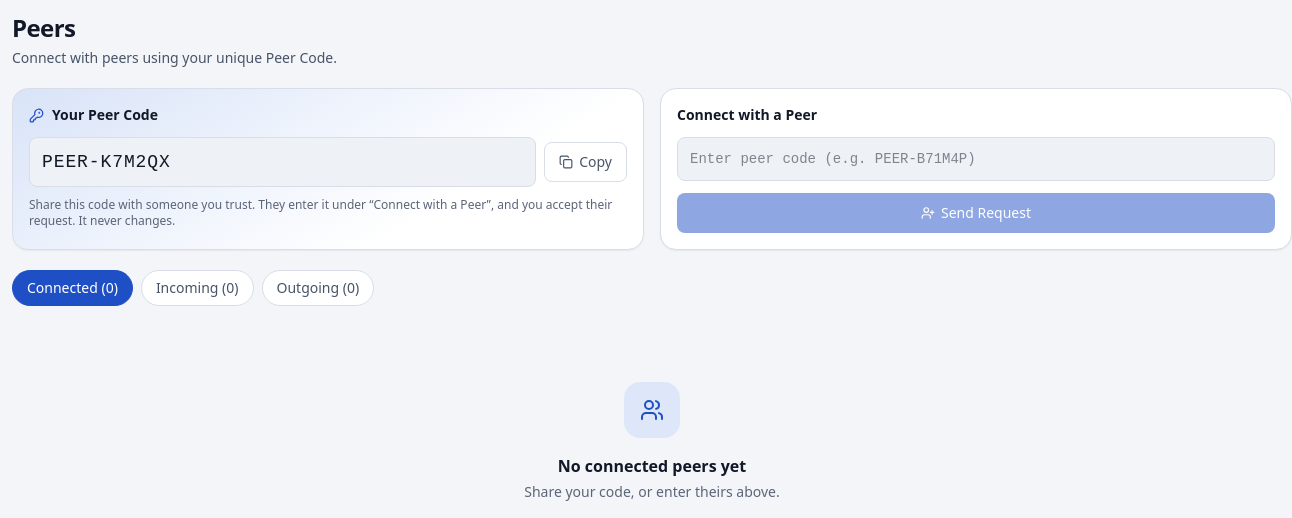
Test case: PeersPanel › shows my peer code from the database, tab counts and empty states
Expected: the text "PEER-K7M2QX" is shown, [29,137,536,187]
Expected: the text "No connected peers yet" is shown, [558,455,746,477]
Click the tab "Incoming (0)".
click(197, 288)  # box [141,270,254,306]
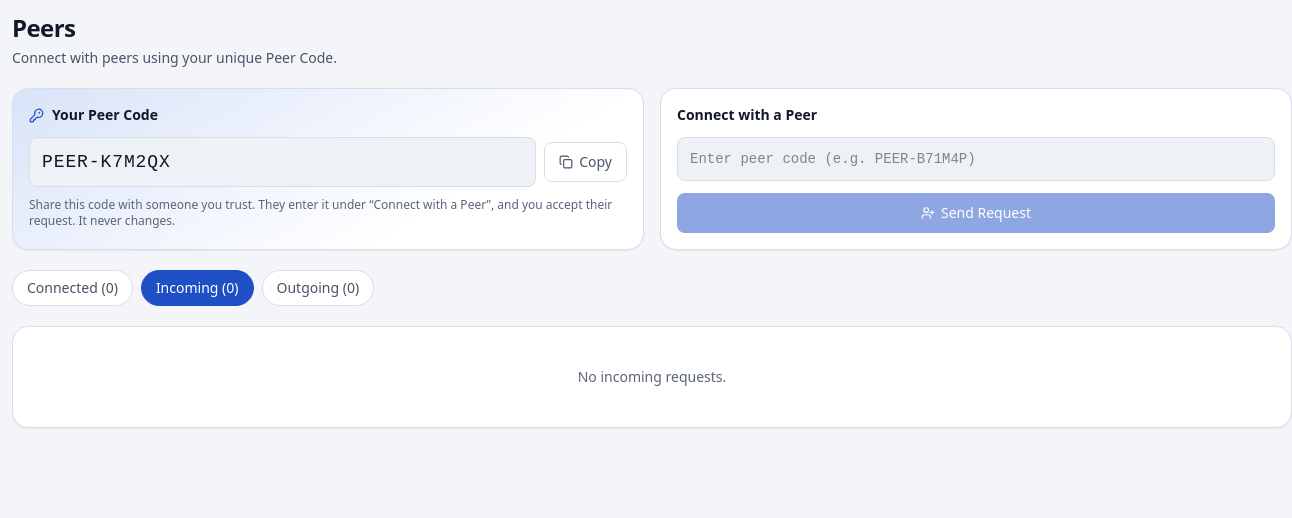
Expected: the text "No incoming requests." is shown, [578,367,726,386]
Click the tab "Outgoing (0)".
click(318, 288)  # box [262,270,374,306]
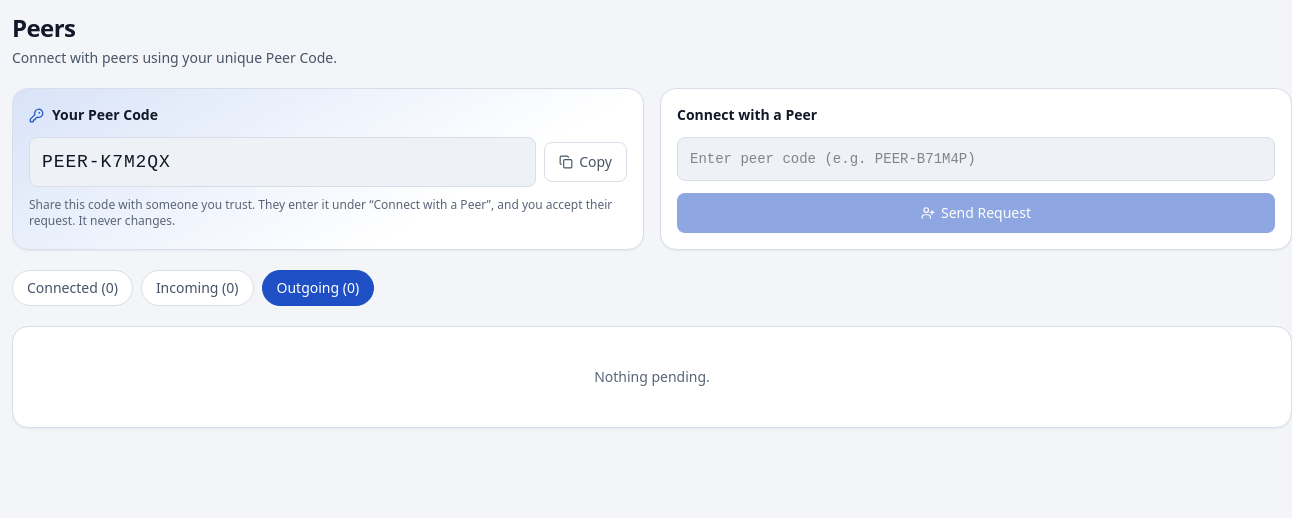
Expected: the text "Nothing pending." is shown, [594,367,710,386]
